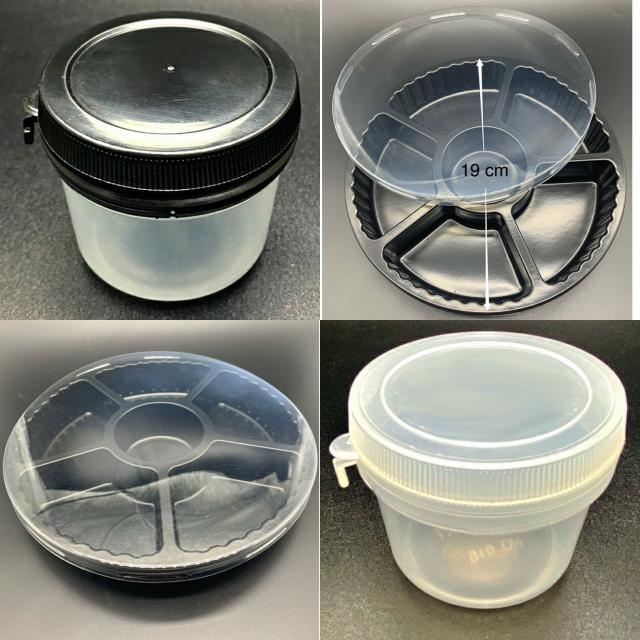Single-Use-Plastic: (330, 331, 626, 609), (26, 11, 300, 301), (5, 351, 316, 582), (346, 60, 625, 314), (334, 9, 595, 205)
